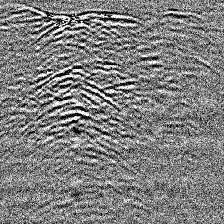cavities: (32, 56, 127, 151), (17, 4, 140, 44)
